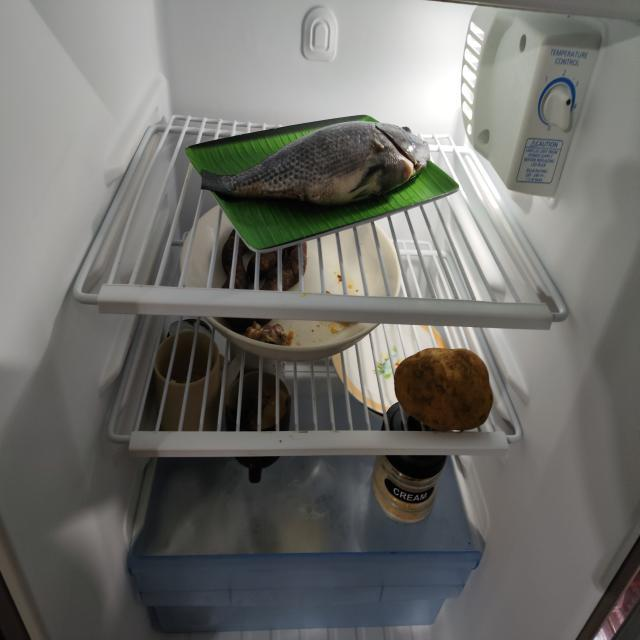fish: (201, 122, 433, 208)
potato: (395, 344, 494, 436)
